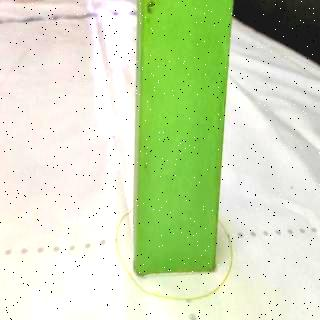greenbox: (134, 0, 234, 277)
